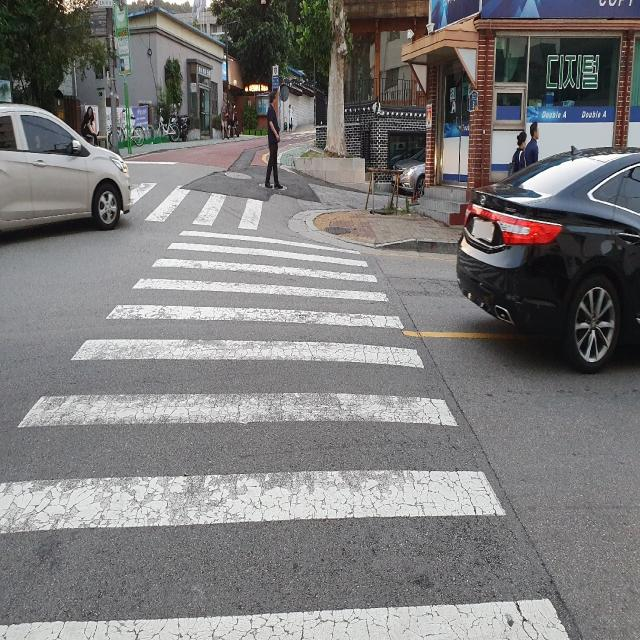횡단보도: (0, 230, 569, 640), (107, 181, 265, 230)
